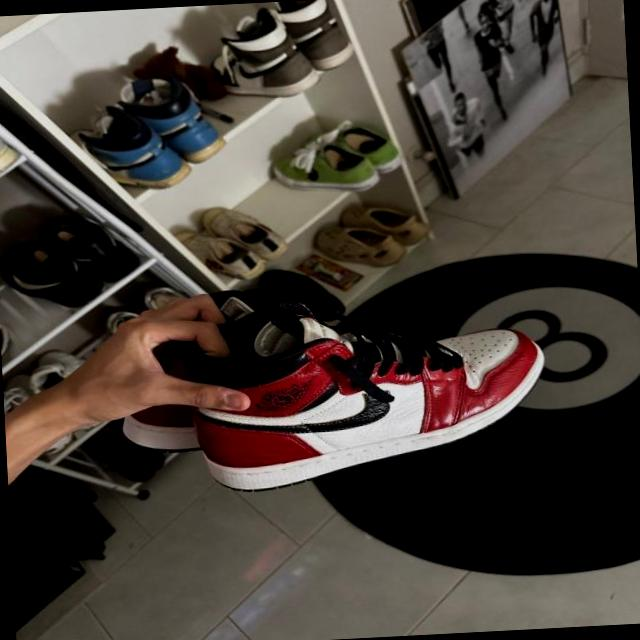nike_original_jordan: (175, 286, 556, 497)
